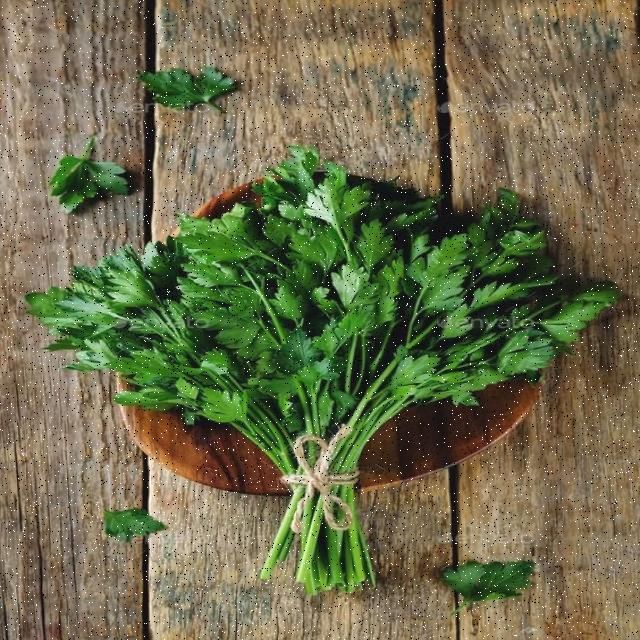Coriander: (78, 146, 620, 608)
